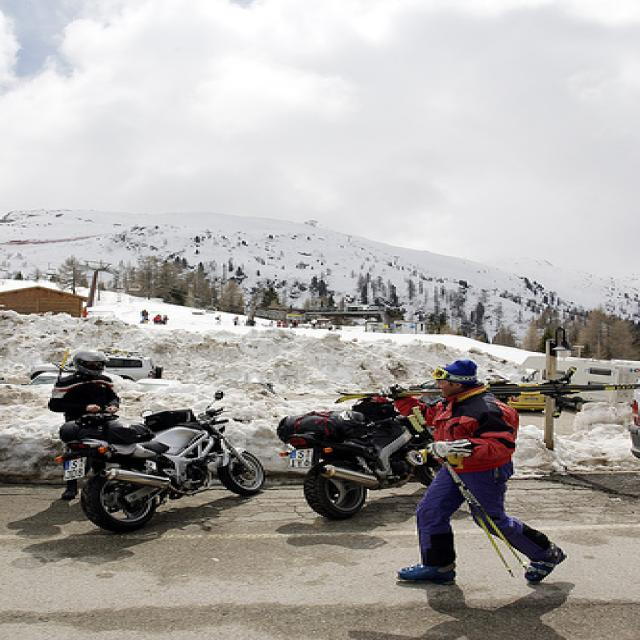motor: (57, 389, 268, 533), (273, 396, 437, 519)
